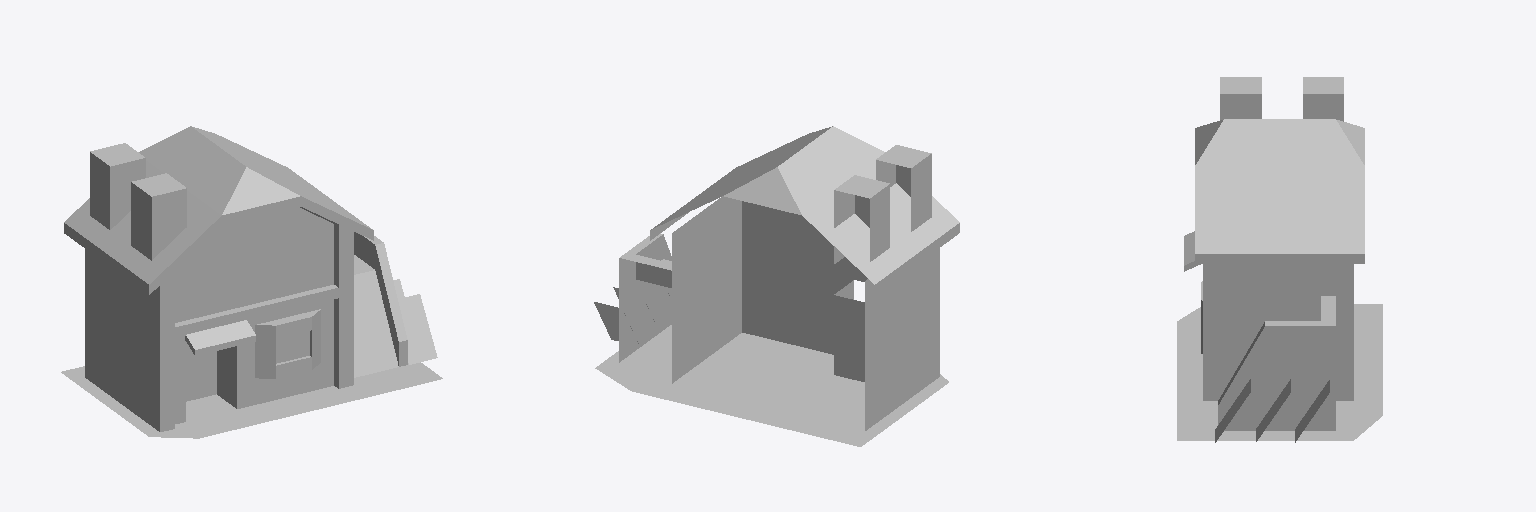
The model's file is Elm Pokémon Lab.obj.
3 renders of one model, left to right at view 1: azimuth 30°, elevation 25°; view 2: azimuth 150°, elevation 25°; view 3: azimuth 270°, elevation 25°, orthographic.
Visible parts, largest first — view 1: polygon3, polygon2, polygon1, polygon0; view 2: polygon3, polygon1, polygon2; view 3: polygon3, polygon1, polygon2.
Part boxes in pixels (x1,y1,x2,y2): polygon3: (64,126,407,431); polygon2: (90,143,437,418); polygon1: (61,362,442,438); polygon0: (193,242,314,363); polygon3: (619,126,959,430); polygon1: (595,325,948,446); polygon2: (594,145,931,381); polygon3: (1184,117,1364,430); polygon1: (1177,304,1382,440); polygon2: (1215,77,1343,442).
Size of the model in its own units: 117 by 88.84 by 70.